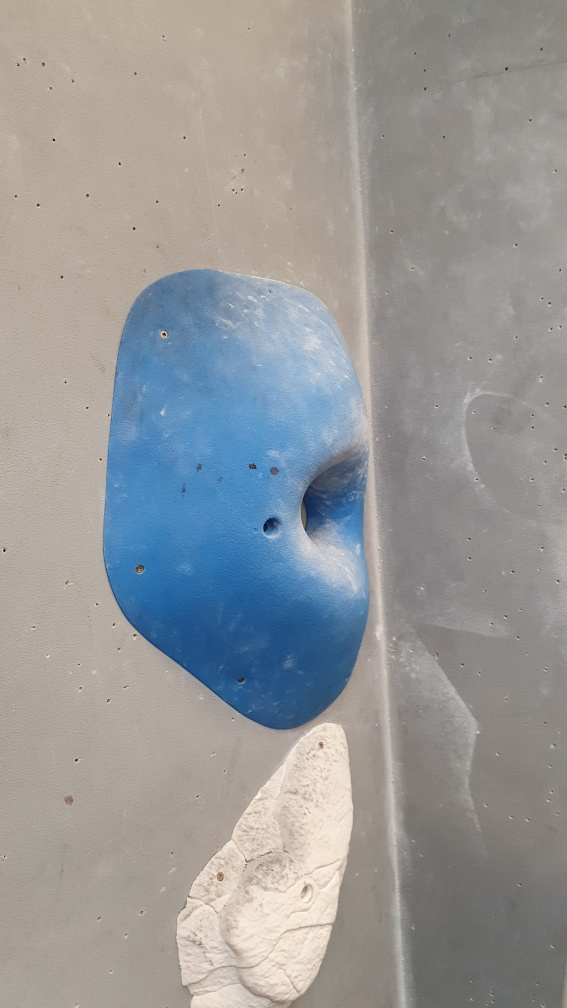Pocket: (103, 265, 372, 729)
